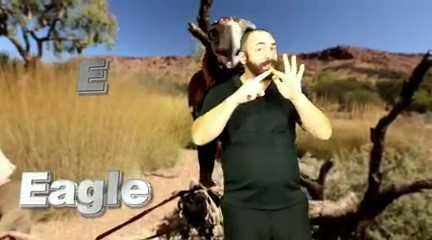E: (235, 51, 313, 103)
